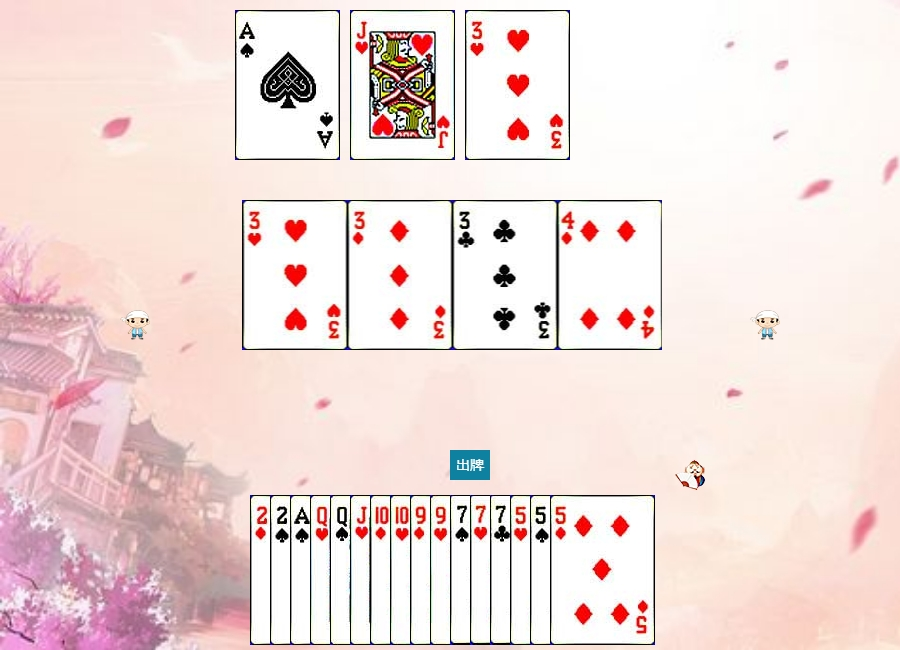10~1: (370, 495, 475, 645)
10~3: (390, 495, 495, 645)
11~3: (350, 10, 455, 160), (350, 495, 455, 645)
12~3: (310, 495, 415, 645)
12~4: (330, 495, 435, 645)
14~4: (235, 10, 340, 160), (290, 495, 395, 645)
15~1: (250, 495, 355, 645)
15~4: (270, 495, 375, 645)
3~1: (348, 200, 453, 350)
3~2: (453, 200, 558, 350)
3~3: (465, 10, 570, 160), (243, 200, 348, 350)
4~1: (558, 200, 663, 350)
5~1: (550, 495, 655, 645)
5~3: (510, 495, 615, 645)
5~4: (530, 495, 635, 645)
7~2: (490, 495, 595, 645)
7~3: (470, 495, 575, 645)
7~4: (450, 495, 555, 645)
9~1: (410, 495, 515, 645)
9~3: (430, 495, 535, 645)
